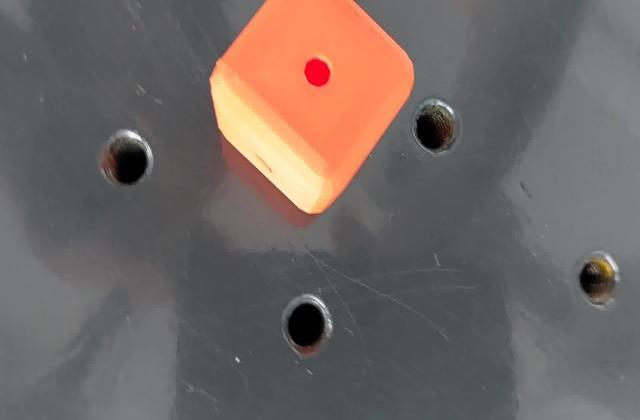cube: (204, 2, 421, 221)
